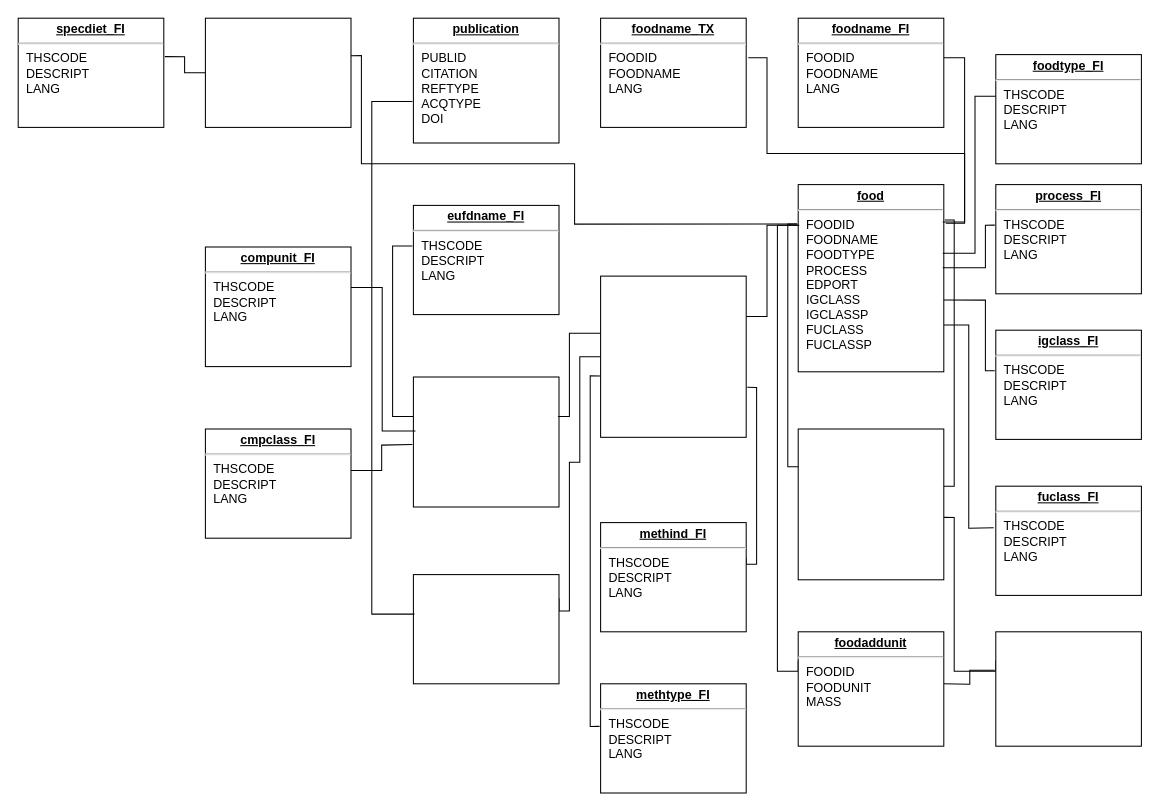
Image size: 1160x811. Some labels were removed from this diagram. Each missing label, with the centre of its shape:
acqtype_FI THSCODE DESCRIPT LANG: the point at 485,629
component EUFDNAME COMPUNIT CMPCLASS CMPCLASSP: the point at 485,441
component_value FOODID EUFDNAME BESTLOC ACQTYPE METHTYPE METHIND: the point at 673,356
contribfood FOODID CONFDID AMOUNT FOODUNIT MASS EVREMAIN RECYEAR: the point at 870,504
foodunit_FI THSCODE DESCRIPT LANG: the point at 1068,688
specdiet FOODID SPECDIET: the point at 277,72
